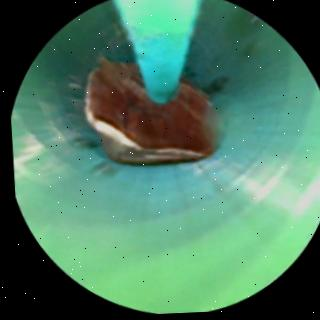fiber: (117, 0, 198, 102)
stone: (84, 57, 210, 166)
